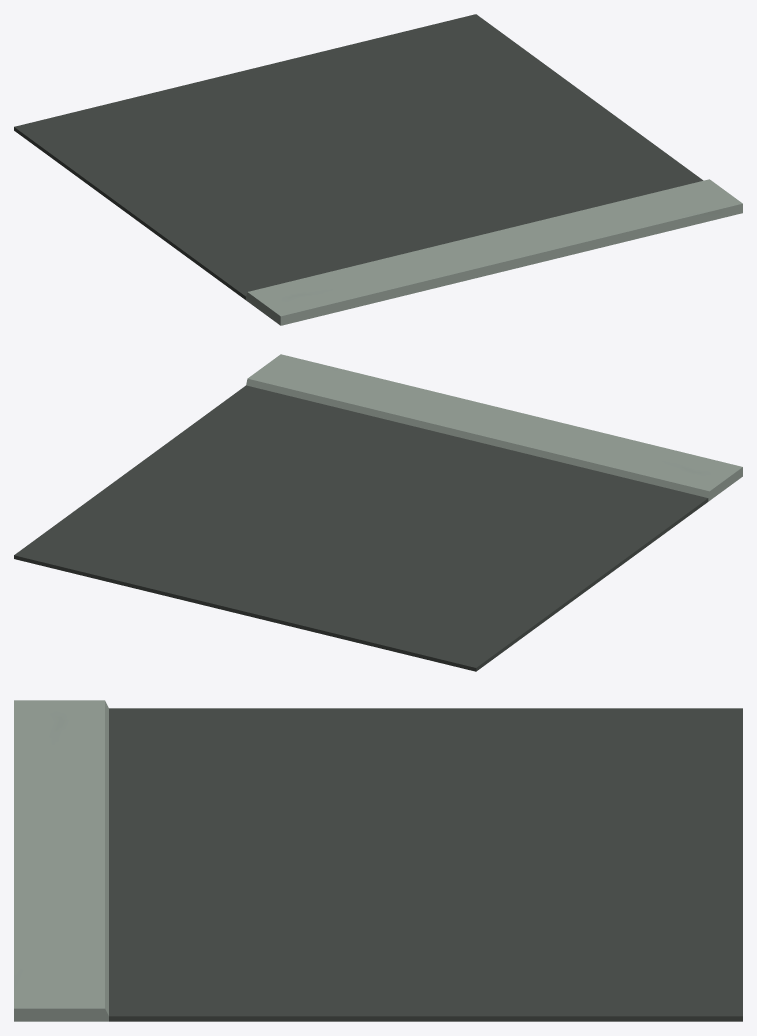
File: road.001.obj
3 renders of one model, top to bottom at view 1: azimuth 30°, elevation 25°; view 2: azimuth 150°, elevation 25°; view 3: azimuth 270°, elevation 25°, orthographic. The views are drawn at different scales.
Parts seen in each view (by area): view 1: Road.001; view 2: Road.001; view 3: Road.001.
Boxes of the visible parts, x1,y1,x2,y2 form: Road.001: (14,14,742,325); Road.001: (14,354,742,671); Road.001: (14,700,742,1021).
Bounding box in the file's own units: 2 × 0.0393 × 2.
Materials: 1 (1 with a texture image).
